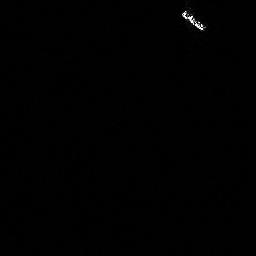ship: (179, 8, 207, 33)
